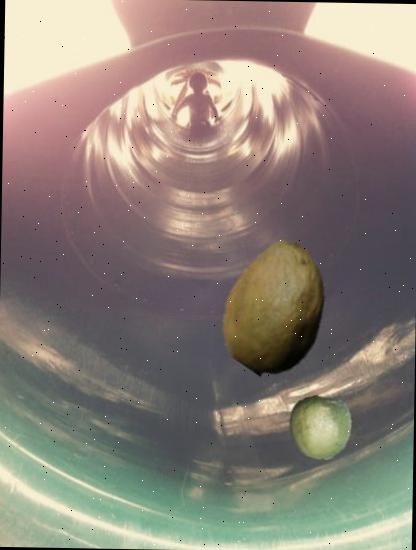Limes: (288, 394, 355, 460)
Papaya: (210, 242, 344, 376)
